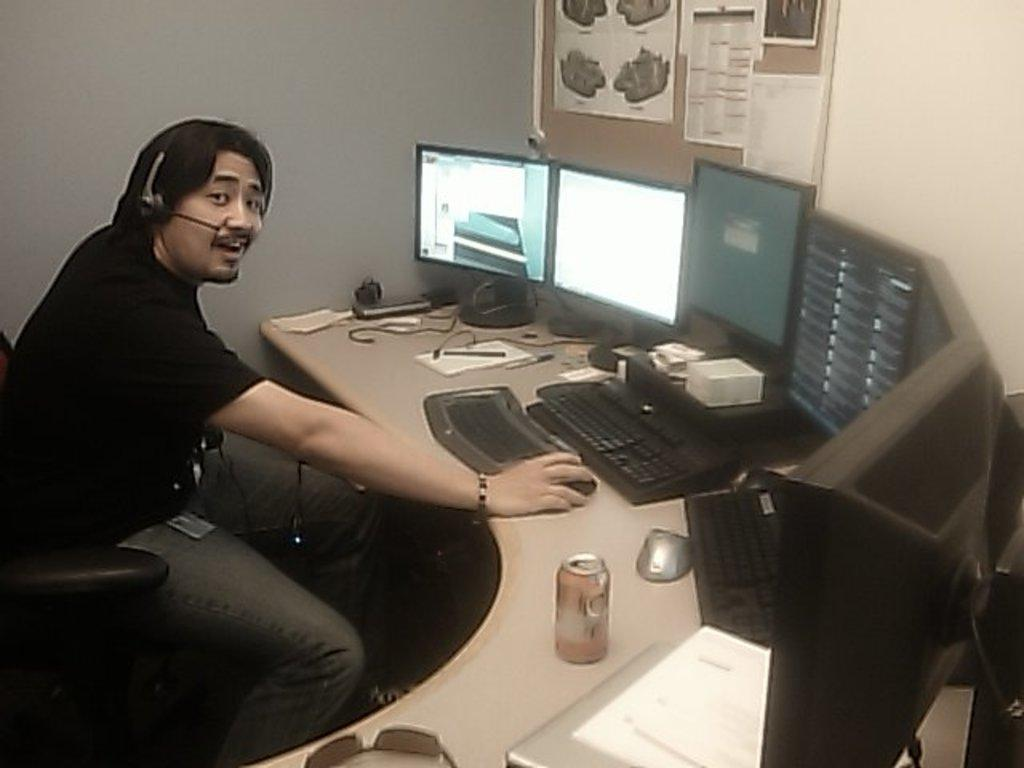Chair: (0, 330, 187, 766)
Computer-keyboard: (526, 379, 738, 501), (678, 486, 773, 643), (424, 379, 584, 469)
Computer-monitor: (762, 338, 1022, 766), (774, 211, 931, 442), (394, 139, 574, 309), (549, 157, 694, 368), (683, 155, 816, 378), (896, 251, 1003, 442)
